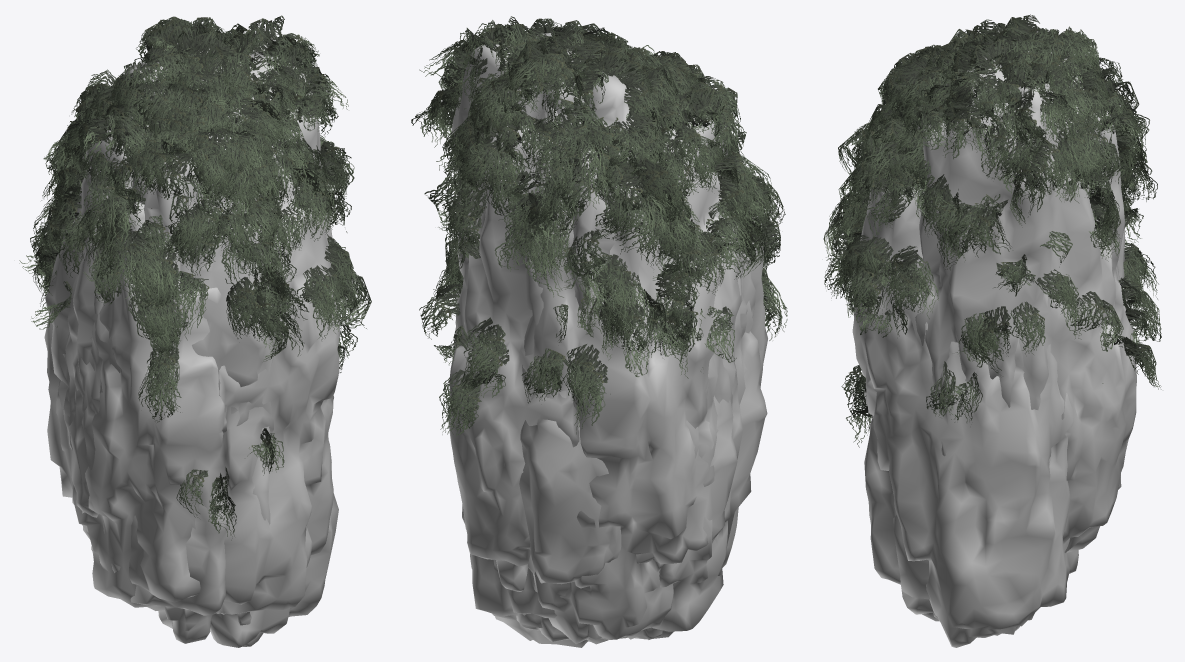
File: RocksGrass.FBX
3 views of the same model, side by side, from view 1: azimuth 30°, elevation 25°; view 2: azimuth 150°, elevation 25°; view 3: azimuth 270°, elevation 25° (orthographic). The views are drawn at different scales.
Visible parts, largest first — view 1: DarkRock_006, DarkRock_008; view 2: DarkRock_008, DarkRock_006; view 3: DarkRock_006, DarkRock_008.
Boxes of the visible parts, box(x1,y1,x2,y2) form: DarkRock_006: box(31, 18, 371, 646); DarkRock_008: box(19, 15, 357, 647); DarkRock_008: box(411, 16, 776, 644); DarkRock_006: box(433, 26, 787, 647); DarkRock_006: box(824, 14, 1143, 647); DarkRock_008: box(823, 28, 1161, 619).
Size of the model in its own units: 752 by 1352 by 733.
